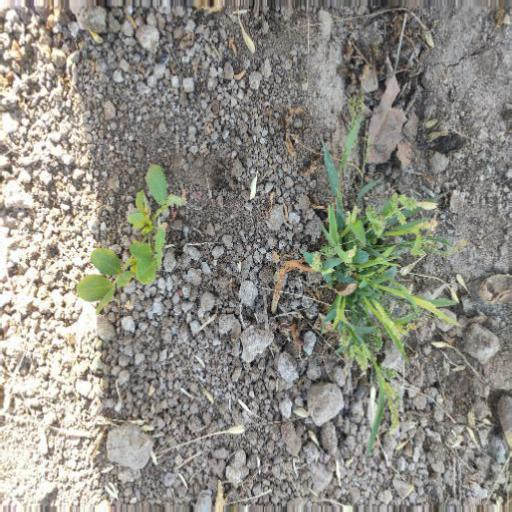weed: (287, 163, 454, 410), (37, 156, 231, 320)
